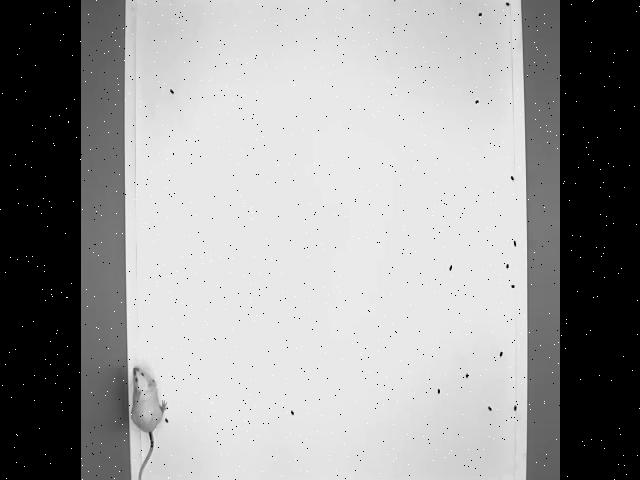Tikus: (126, 362, 168, 480)
